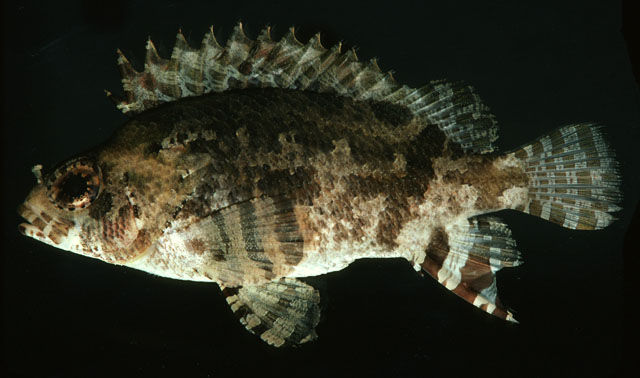fish: (23, 21, 625, 349)
